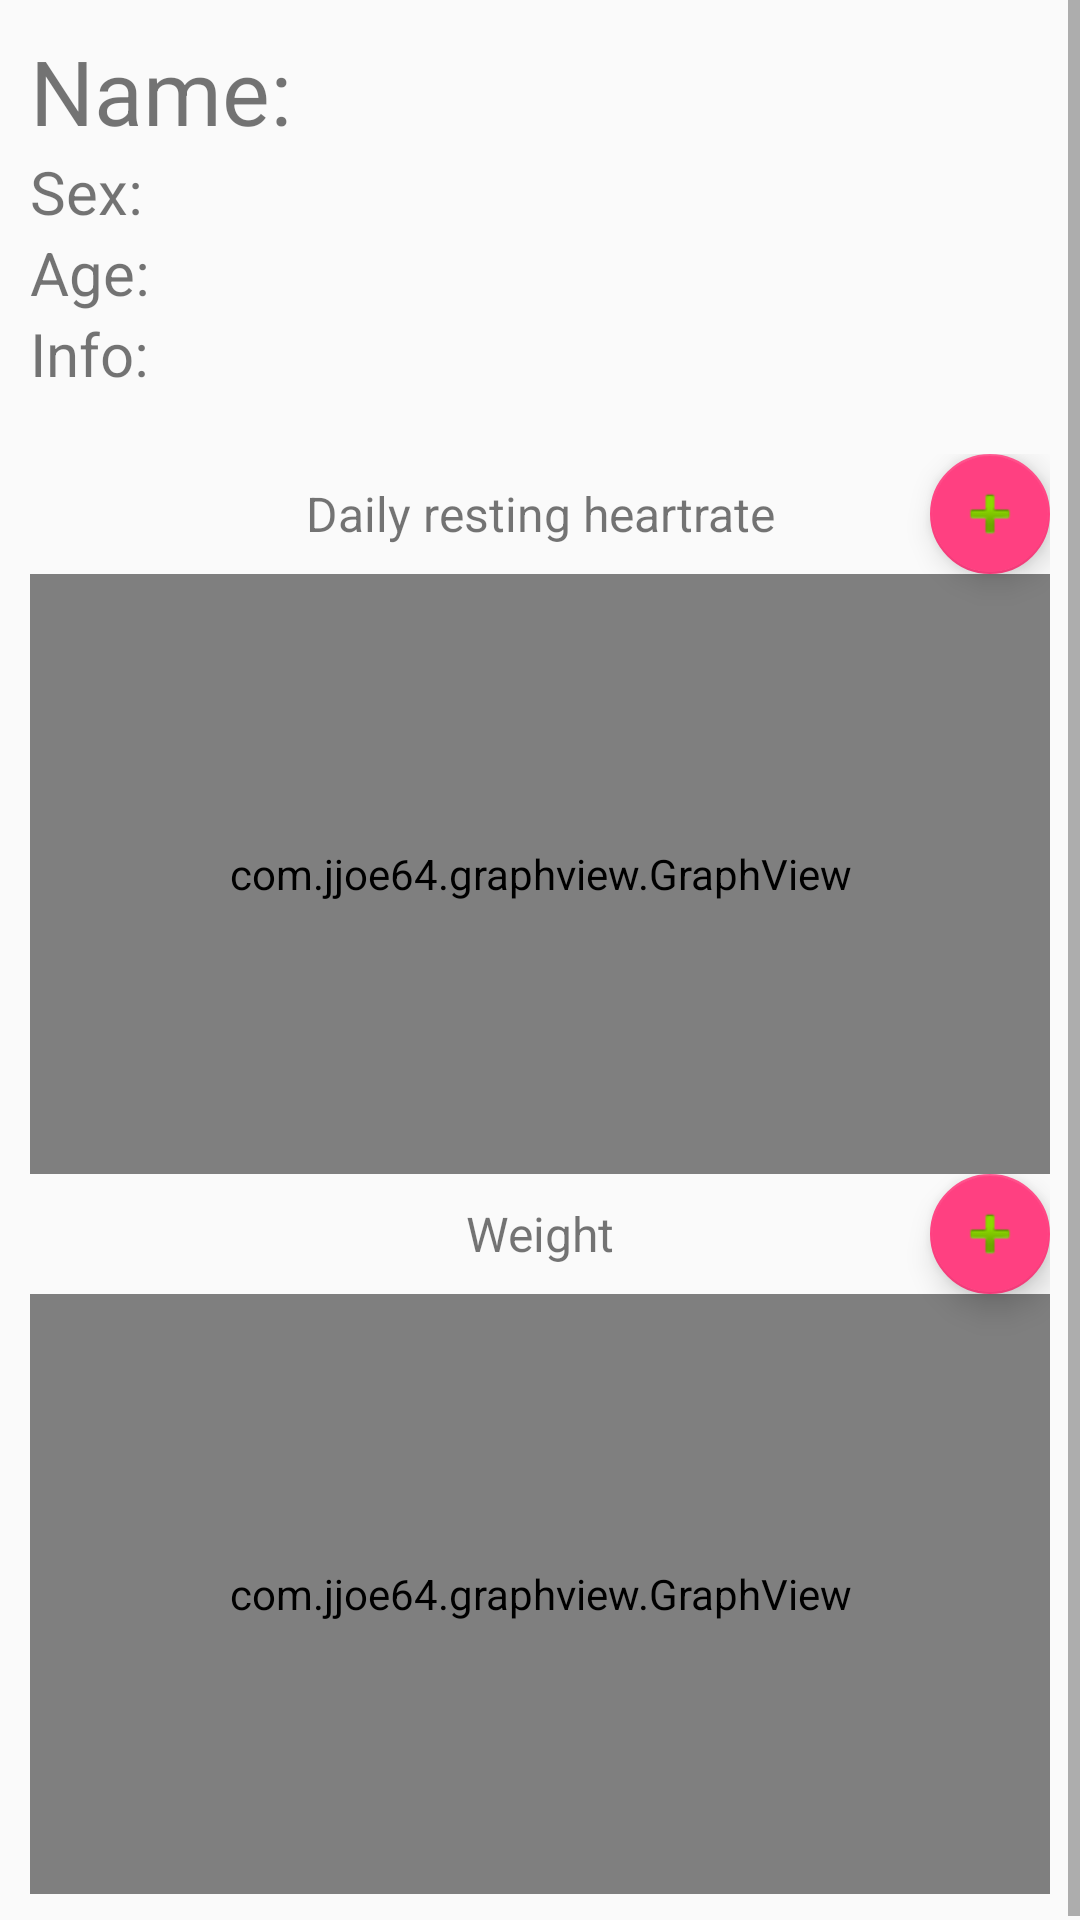

Point at icon controls on the screen. Image size 1080*1920, points as point (x, y).
add: point (990, 514), point (990, 1234)
